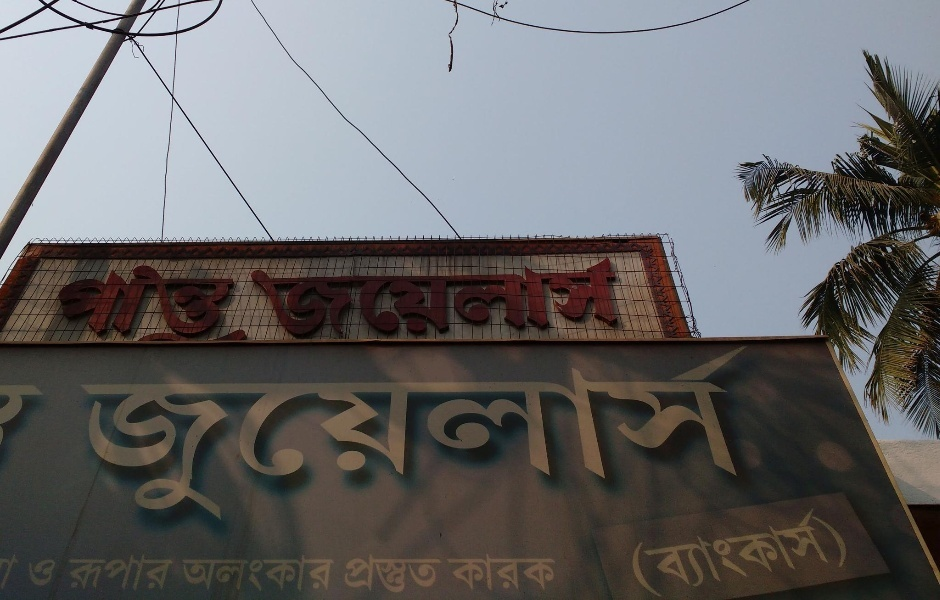text: (81, 344, 96, 531), (97, 344, 112, 531), (113, 344, 128, 531), (129, 344, 144, 531), (145, 344, 160, 531), (161, 344, 176, 531), (177, 344, 192, 531), (193, 344, 208, 531), (209, 344, 224, 531), (225, 344, 240, 531), (241, 344, 256, 531), (257, 344, 272, 531), (273, 344, 288, 531), (289, 344, 304, 531), (305, 344, 320, 531), (321, 344, 336, 531), (337, 344, 352, 531), (353, 344, 368, 531), (369, 344, 384, 531), (385, 344, 400, 531), (401, 344, 416, 531), (417, 344, 432, 531), (433, 344, 448, 531), (449, 344, 464, 531), (465, 344, 480, 531), (481, 344, 496, 531), (497, 344, 512, 531), (513, 344, 528, 531), (529, 344, 544, 531), (545, 344, 560, 531), (561, 344, 576, 531), (577, 344, 592, 531), (593, 344, 608, 531), (609, 344, 624, 531), (625, 344, 640, 531), (641, 344, 656, 531), (657, 344, 672, 531), (673, 344, 688, 531), (689, 344, 704, 531), (705, 344, 720, 531), (721, 344, 736, 531), (737, 344, 751, 531), (625, 505, 640, 600), (641, 505, 656, 600), (657, 505, 672, 600), (673, 505, 688, 600), (689, 505, 704, 600), (705, 505, 720, 600), (721, 505, 736, 600), (737, 505, 752, 600), (753, 505, 768, 600), (769, 505, 784, 600), (785, 505, 800, 600), (801, 505, 816, 600), (817, 505, 832, 600), (833, 505, 848, 600), (257, 257, 272, 341), (273, 257, 288, 341), (289, 257, 304, 341), (305, 257, 320, 341), (321, 257, 336, 341), (337, 257, 352, 341), (353, 257, 368, 341), (369, 257, 384, 341), (385, 257, 400, 341), (401, 257, 416, 341), (417, 257, 432, 341), (433, 257, 448, 341), (449, 257, 464, 341), (465, 257, 480, 341), (481, 257, 496, 341), (497, 257, 512, 341), (513, 257, 528, 341), (529, 257, 544, 341), (545, 257, 560, 341), (561, 257, 576, 341), (577, 257, 592, 341), (593, 257, 608, 341), (609, 257, 624, 341), (849, 505, 861, 600), (65, 264, 80, 335), (81, 264, 96, 335), (97, 264, 112, 335), (113, 264, 128, 335), (129, 264, 144, 335), (145, 264, 160, 335), (161, 264, 176, 335), (177, 264, 192, 335), (193, 264, 208, 335), (209, 264, 224, 335), (1, 383, 16, 449), (17, 383, 32, 449), (33, 383, 45, 449), (353, 550, 368, 599), (369, 550, 384, 599), (385, 550, 400, 599), (401, 550, 416, 599), (417, 550, 432, 599), (225, 264, 235, 335), (449, 553, 464, 595), (465, 553, 480, 595), (481, 553, 496, 595), (497, 553, 512, 595), (513, 553, 528, 595), (529, 553, 544, 595), (545, 553, 560, 595), (1, 553, 16, 594), (193, 554, 208, 592), (209, 554, 224, 592), (225, 554, 240, 592), (241, 554, 256, 592), (257, 554, 272, 592), (273, 554, 288, 592), (289, 554, 304, 592), (305, 554, 320, 592), (81, 555, 96, 593), (97, 555, 112, 593), (113, 555, 128, 593), (129, 555, 144, 593), (145, 555, 160, 593), (161, 555, 176, 593), (321, 554, 335, 592), (250, 257, 256, 341), (433, 550, 443, 599), (33, 559, 48, 587), (69, 555, 80, 593), (182, 554, 192, 592), (59, 264, 64, 335), (347, 550, 352, 599), (49, 559, 56, 587), (79, 344, 80, 531), (145, 330, 160, 342), (161, 330, 176, 342), (177, 330, 192, 342), (193, 330, 208, 342), (209, 330, 224, 342), (225, 330, 240, 342), (625, 257, 627, 341), (17, 553, 21, 594), (134, 330, 144, 342), (28, 559, 32, 587), (446, 553, 448, 595), (241, 330, 247, 342)
